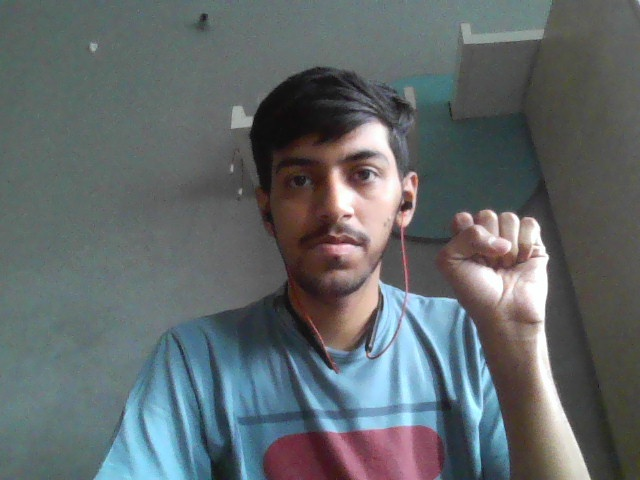Yes: (435, 197, 565, 339)
